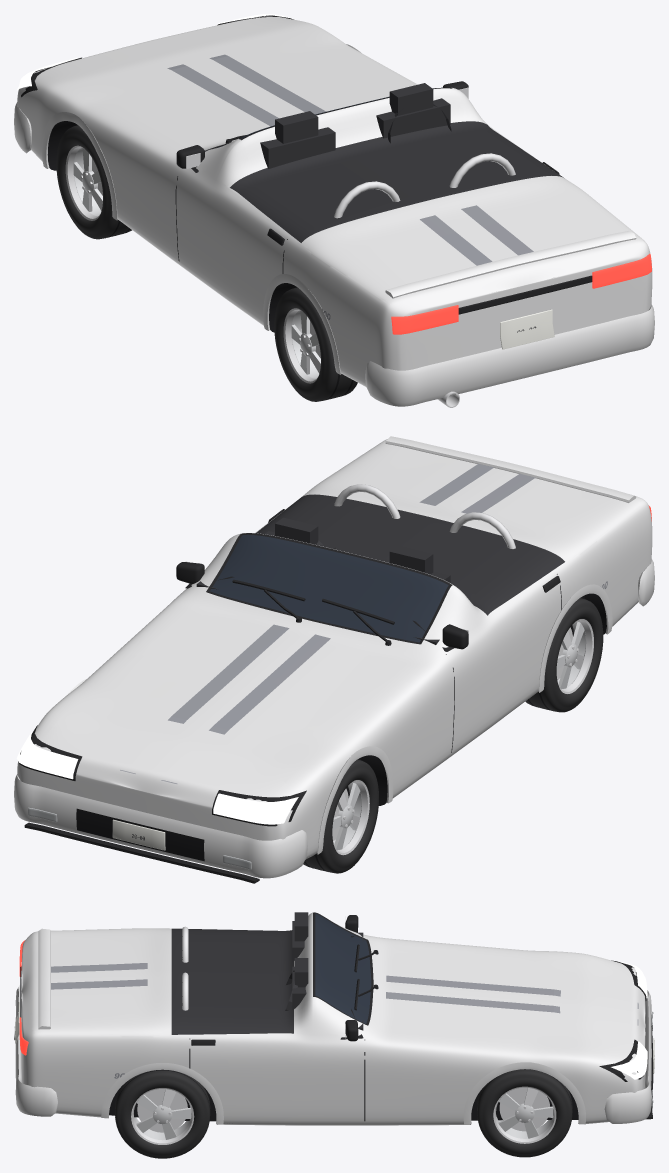
3 views of the same model, one above another, from view 1: azimuth 30°, elevation 25°; view 2: azimuth 150°, elevation 25°; view 3: azimuth 270°, elevation 25° (orthographic). The views are drawn at different scales.
Parts seen in each view (by area): view 1: Body, Wheel_RL, Wheel_FL; view 2: Body, Wheel_RL, Wheel_FL; view 3: Body, Wheel_RR, Wheel_FR.
Boxes of the visible parts, x1=… form: Body: x1=14, y1=14, x2=654, y2=407; Wheel_RL: x1=274, y1=287, x2=357, y2=401; Wheel_FL: x1=56, y1=125, x2=131, y2=239; Body: x1=14, y1=436, x2=654, y2=883; Wheel_RL: x1=525, y1=598, x2=603, y2=712; Wheel_FL: x1=303, y1=759, x2=378, y2=873; Body: x1=14, y1=912, x2=654, y2=1125; Wheel_RR: x1=115, y1=1069, x2=210, y2=1158; Wheel_FR: x1=477, y1=1069, x2=572, y2=1157.
Bounding box in the file's own units: 1.81 × 1.19 × 4.25.
